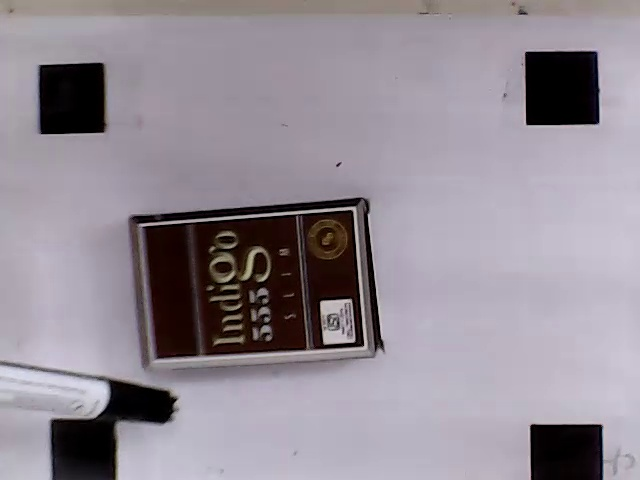BEX: (141, 209, 367, 365)
